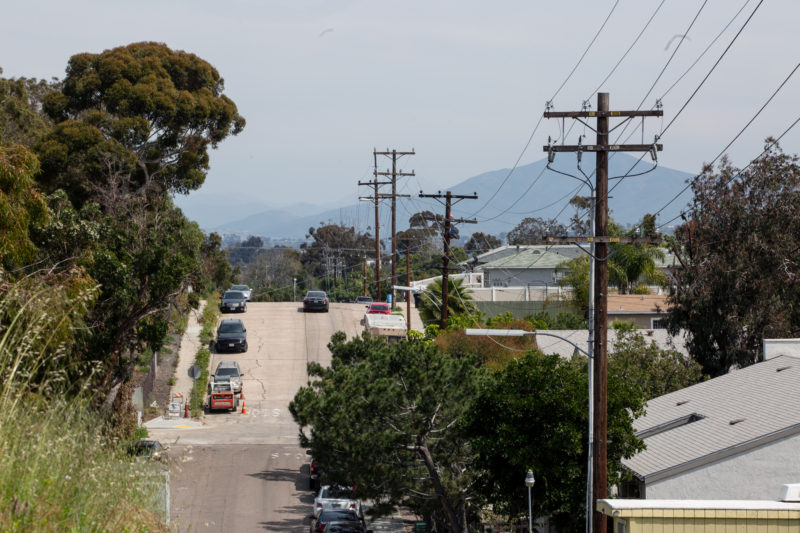utility_pole: (535, 84, 672, 194), (414, 183, 483, 245)
